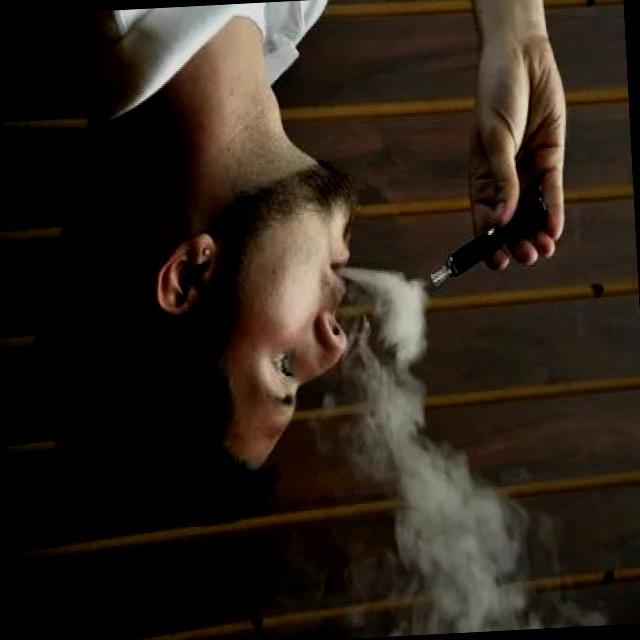smoke: (420, 190, 556, 296)
